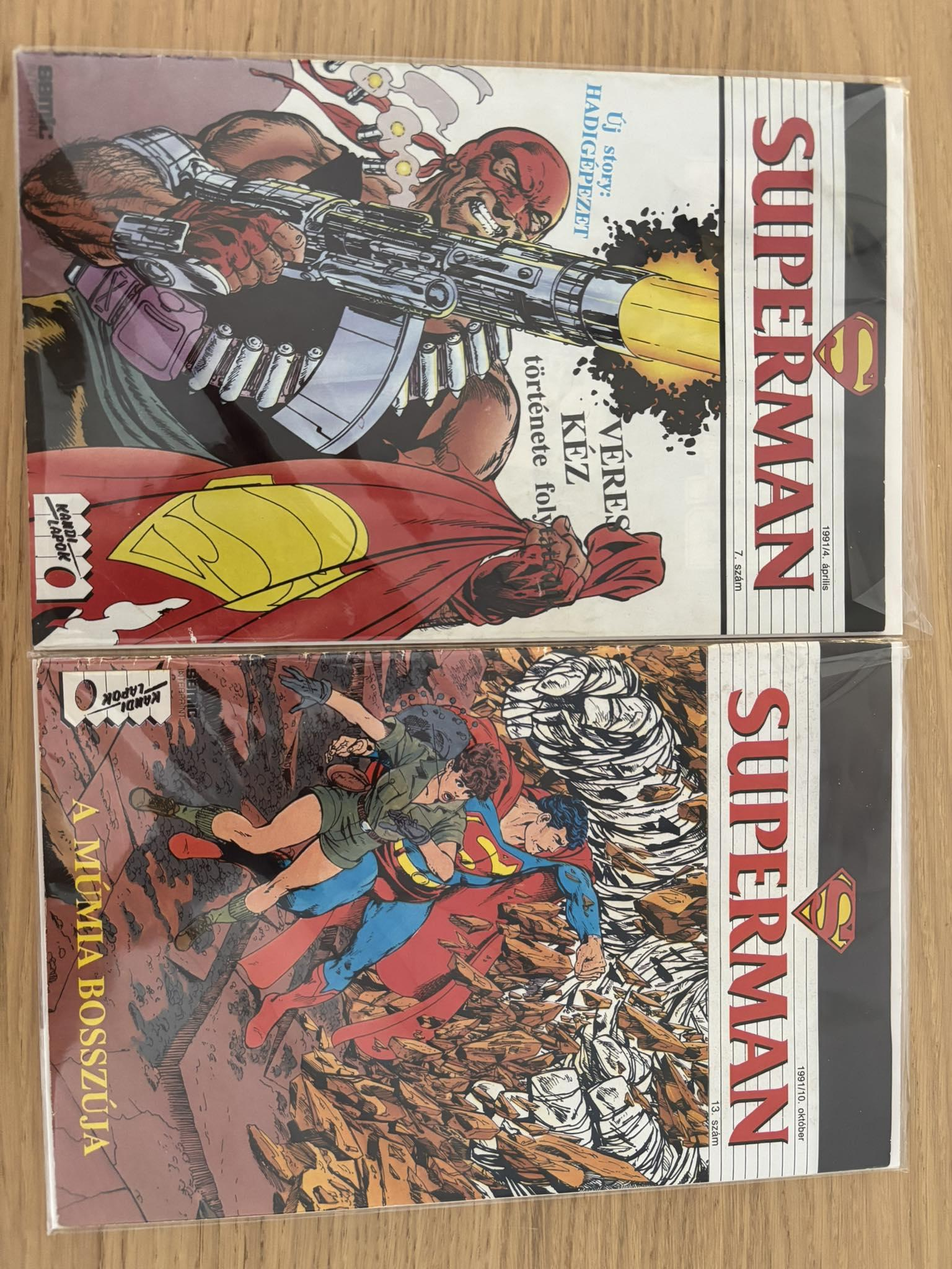comic: (17, 37, 912, 652), (35, 637, 914, 1227)
